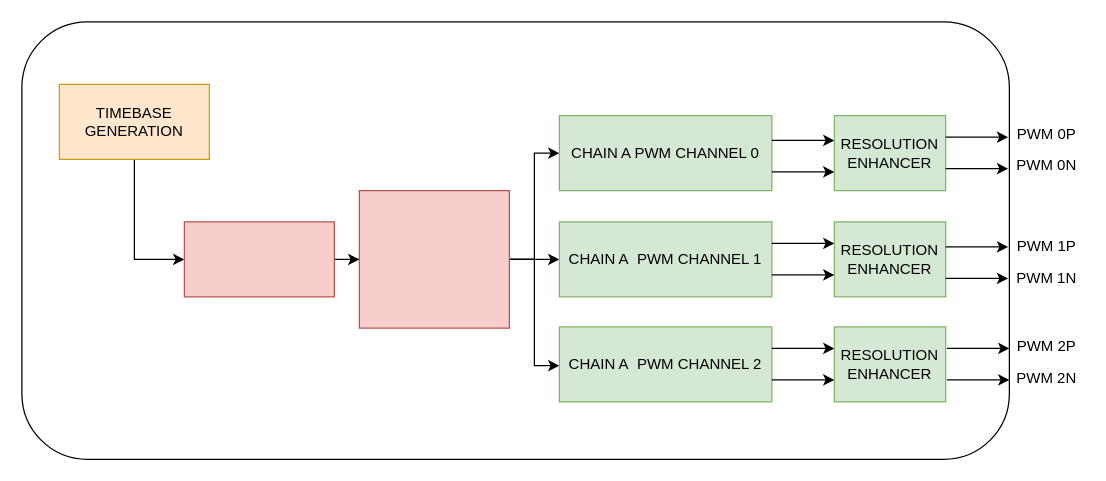
Image size: 1106x481. Some labels were removed from this diagram. The box of each missing label's shape, as (x1, y1, x2, y2) in pixels:
CHAIN 0 COMPARATOR REGISTER BANK: (358, 189, 509, 328)
CHAIN 0 COUNTER: (183, 221, 334, 297)
